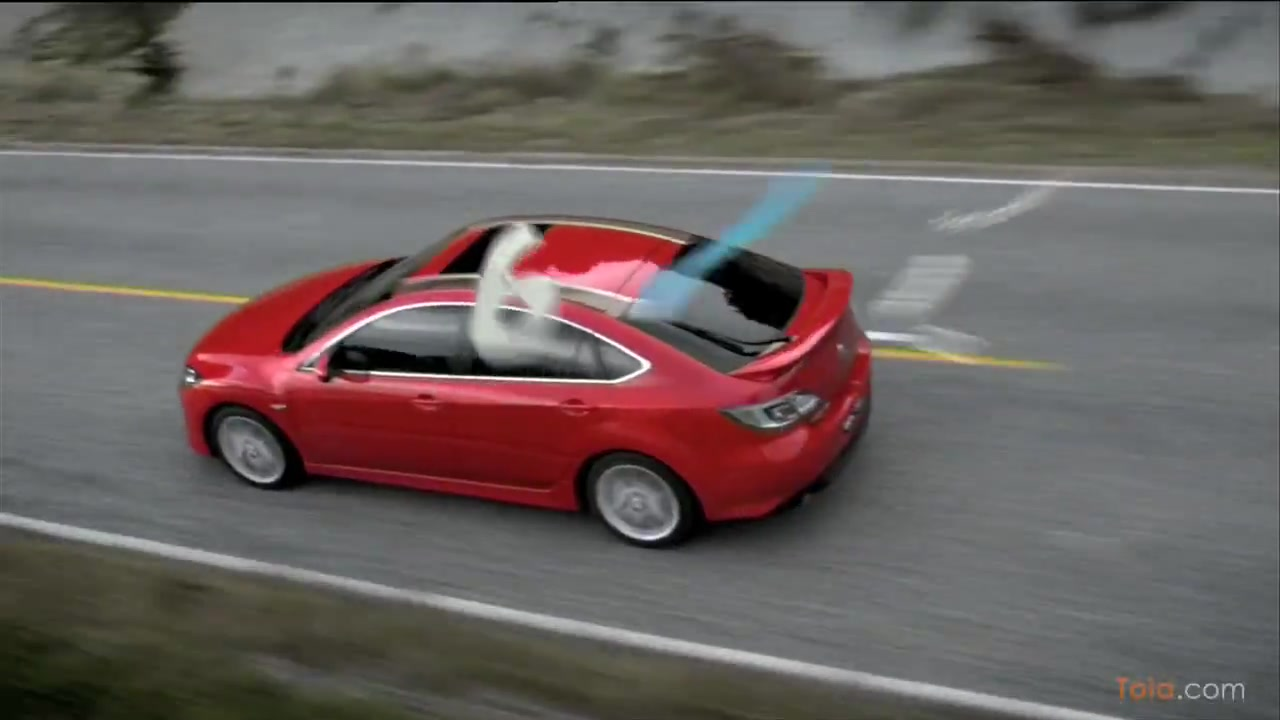car: (173, 213, 880, 554)
